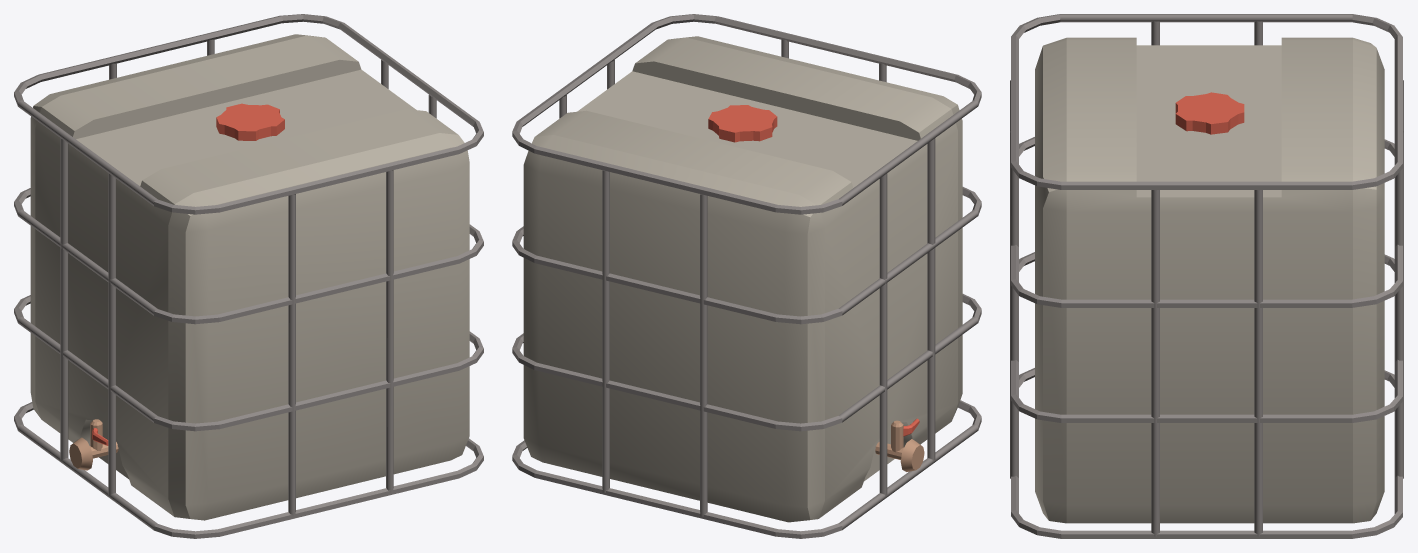
File: SM_Barrel_06.fbx
The picture shows the model from 3 angles, left to right: view 1: azimuth 30°, elevation 25°; view 2: azimuth 150°, elevation 25°; view 3: azimuth 270°, elevation 25°; orthographic projection. The views are drawn at different scales.
Visible parts, largest first — view 1: SM_Barrel_06; view 2: SM_Barrel_06; view 3: SM_Barrel_06.
Boxes of the visible parts, left/top/right/bottom form: SM_Barrel_06: left=14, top=14, right=483, bottom=538; SM_Barrel_06: left=512, top=14, right=981, bottom=538; SM_Barrel_06: left=1010, top=14, right=1403, bottom=538.
Bounding box in the file's own units: 113 × 107 × 107.
